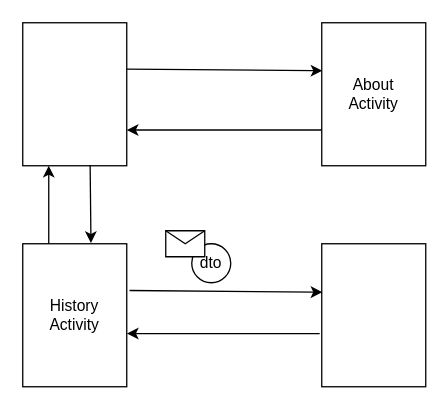
Some shapes in this 448 by 410 pixel diagram are drawn without their labels. Each missing label, with the centre of its shape:
"Main Activity" belongs at (74,93).
"Quote Activity" belongs at (373,314).
